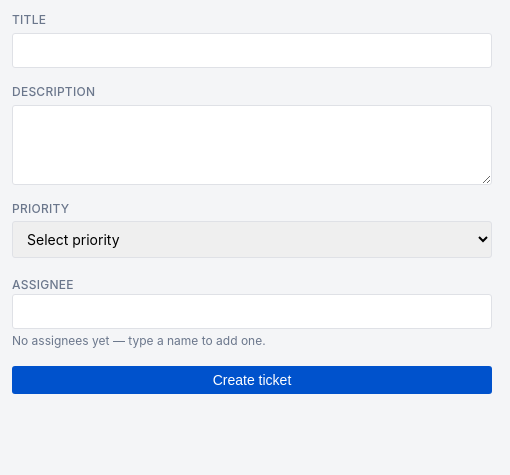
Test: TicketForm › renders a single banner when details[] is empty but message is present
This screenshot has width=510, height=475.
Type "A title" into the field labelled "Title" at (252,50), box [12,33,492,68]
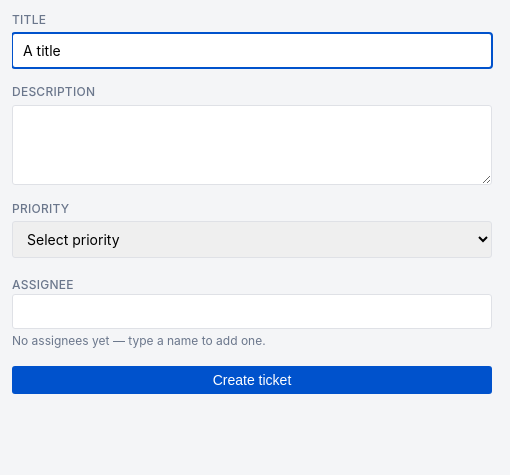
Type "A description" into the text box labelled "Description" at (252,145), box [12,105,492,185]
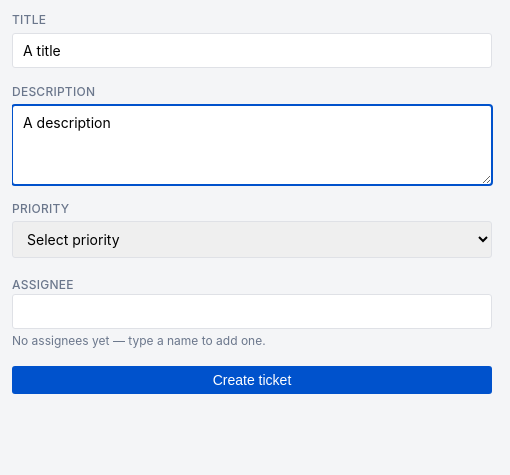
Select "HIGH" in the dropdown labelled "Priority" at (252,240), box [12,221,492,258]
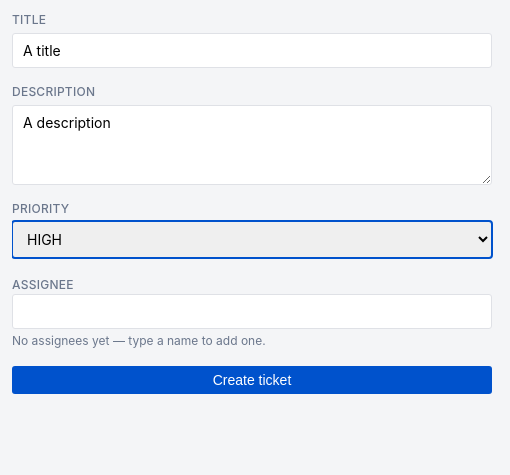
Type "jane.doe" into the dropdown labelled "Assignee" at (252,312), box [12,294,492,329]
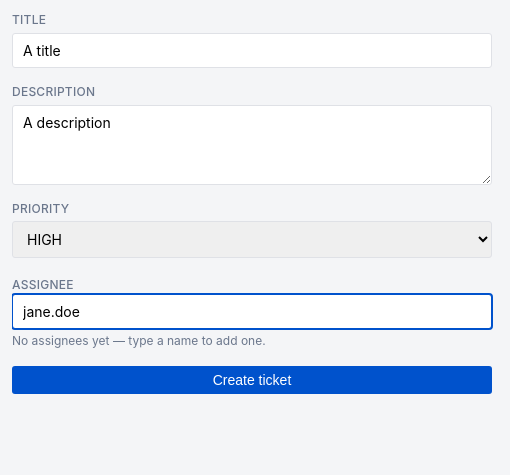
Click the button "Create ticket" at (252,380), box [12,366,492,394]
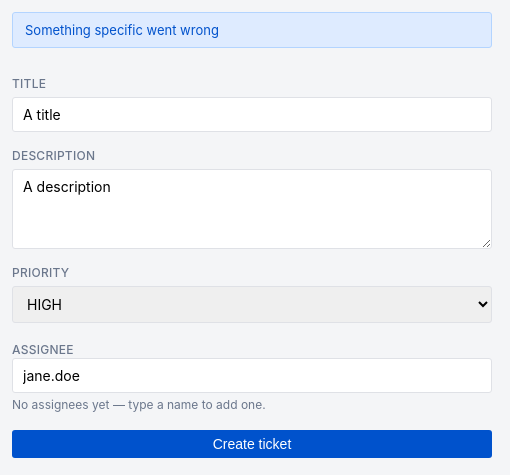
Check: the text "Something specific went wrong" is shown, box [12,12,492,48]
